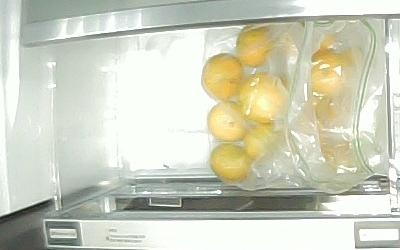tangerine_vinyl: (307, 36, 360, 96), (241, 72, 290, 124), (202, 52, 242, 99), (208, 101, 248, 143), (236, 24, 274, 68), (210, 144, 251, 182), (310, 92, 351, 127), (244, 122, 282, 159), (312, 130, 350, 166), (321, 35, 359, 62)
